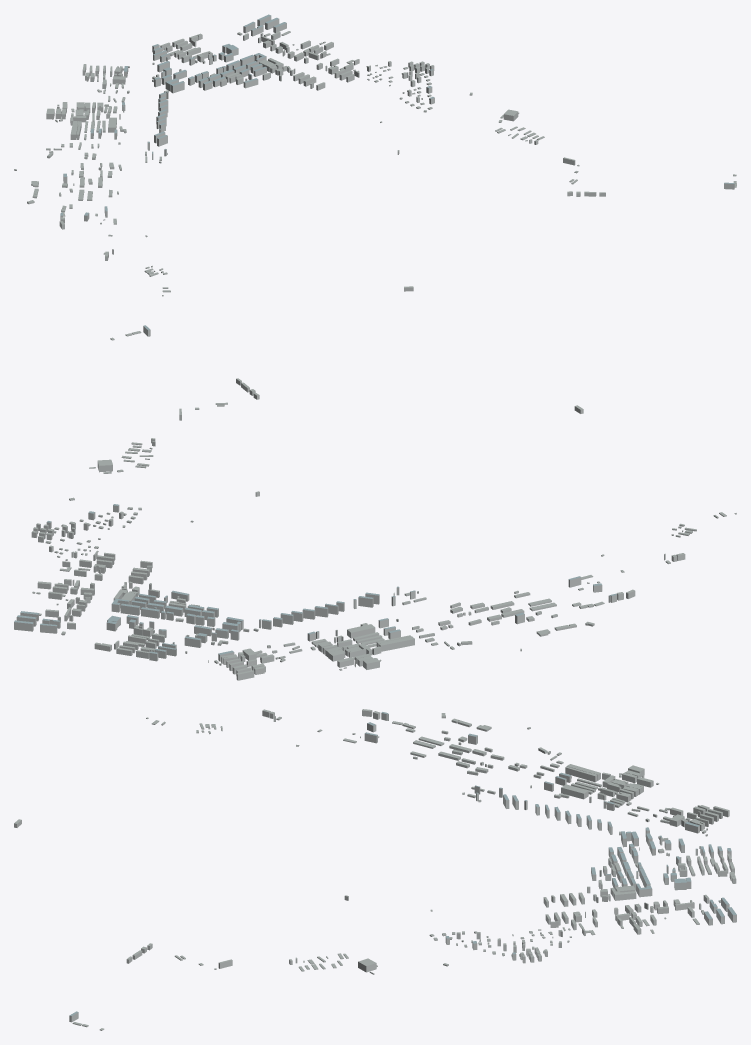
The model's file is far.glb.
3 views of the same model, one above another, from view 1: azimuth 30°, elevation 25°; view 2: azimuth 150°, elevation 25°; view 3: azimuth 270°, elevation 25° (orthographic). The views are drawn at different scales.
Bounding box in the file's own units: 1936 × 25.7 × 1870.
